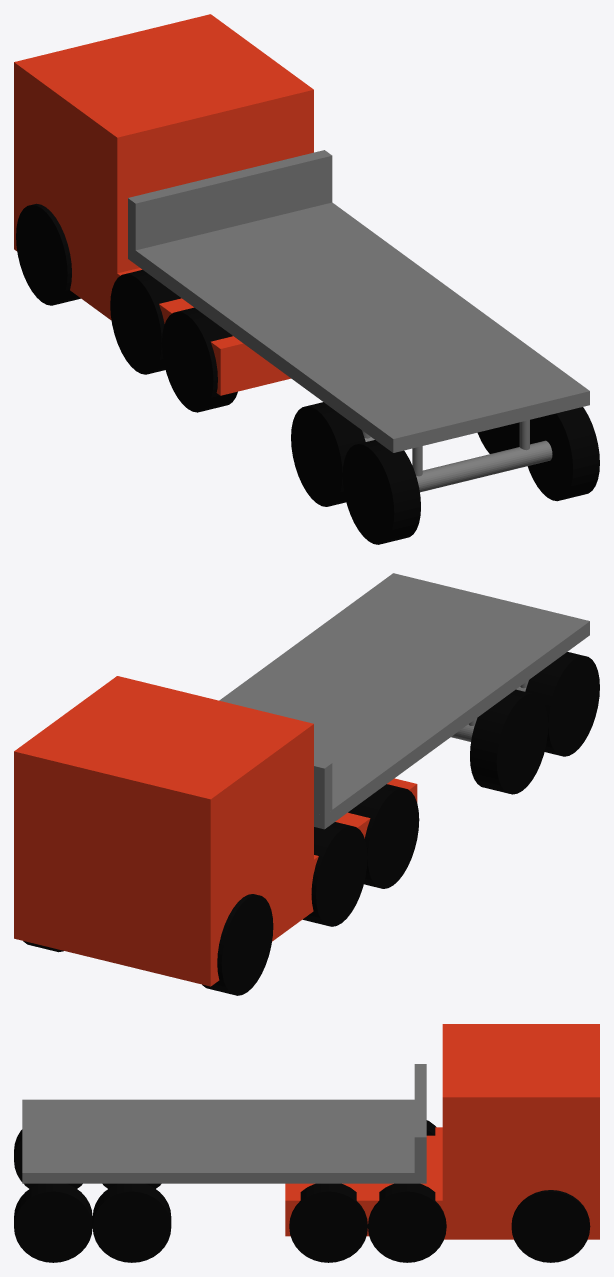
3 renders of one model, top to bottom at view 1: azimuth 30°, elevation 25°; view 2: azimuth 150°, elevation 25°; view 3: azimuth 270°, elevation 25°, orthographic. The views are drawn at different scales.
Parts seen in each view (by area): view 1: Cube.002, Cube, Cube.003, Cylinder.007, Cylinder.003, Cylinder.006, Cylinder.008, Cylinder.002, Cylinder.001, Cube.001, Cylinder.010, Cylinder.009; view 2: Cube, Cube.002, Cylinder.006, Cylinder.007, Cylinder.002, Cylinder.003, Cylinder.001, Cube.003, Cube.001; view 3: Cube.002, Cube, Cylinder.009, Cylinder.008, Cylinder.004, Cylinder.005, Cylinder, Cube.001, Cube.003, Cylinder.007.
Boxes of the visible parts, box(x1,y1,x2,y2) form: Cube.002: box(128, 202, 589, 452); Cube: box(14, 14, 313, 320); Cube.003: box(128, 150, 332, 250); Cylinder.007: box(342, 440, 420, 544); Cylinder.003: box(162, 307, 237, 412); Cylinder.006: box(291, 402, 365, 506); Cylinder.008: box(527, 407, 599, 501); Cylinder.002: box(110, 269, 181, 374); Cylinder.001: box(16, 203, 80, 305); Cube.001: box(117, 268, 290, 395); Cylinder.010: box(416, 440, 552, 492); Cylinder.009: box(477, 422, 519, 453); Cube: box(14, 676, 313, 986); Cube.002: box(219, 573, 589, 829); Cylinder.006: box(470, 689, 548, 794); Cylinder.007: box(525, 652, 599, 756); Cylinder.002: box(302, 822, 367, 926); Cylinder.003: box(348, 784, 419, 888); Cylinder.001: box(202, 894, 273, 995); Cube.003: box(314, 758, 332, 815); Cube.001: box(314, 778, 417, 871); Cube.002: box(22, 1099, 426, 1183); Cube: box(442, 1024, 599, 1239); Cylinder.009: box(92, 1183, 171, 1262); Cylinder.008: box(14, 1183, 92, 1262); Cylinder.004: box(368, 1183, 446, 1262); Cylinder.005: box(289, 1183, 367, 1262); Cylinder: box(511, 1190, 590, 1262); Cube.001: box(285, 1127, 442, 1236); Cube.003: box(414, 1064, 426, 1172); Cylinder.007: box(14, 1129, 82, 1188).
Bounding box in the file's own units: 2.66 × 2.66 × 8.61.
